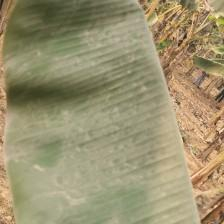healthy: (0, 0, 202, 224)
